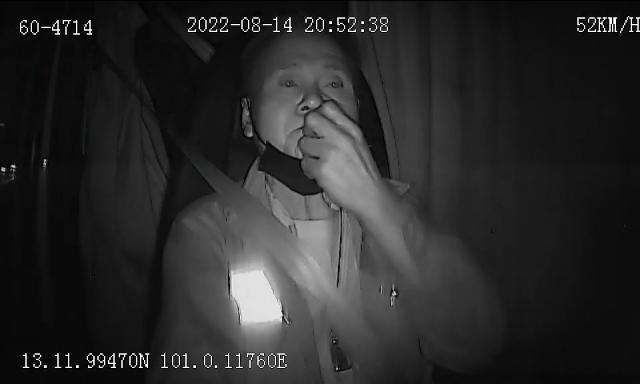SafeDriving: (274, 68, 304, 96)
Seatbelt: (164, 126, 384, 384)
